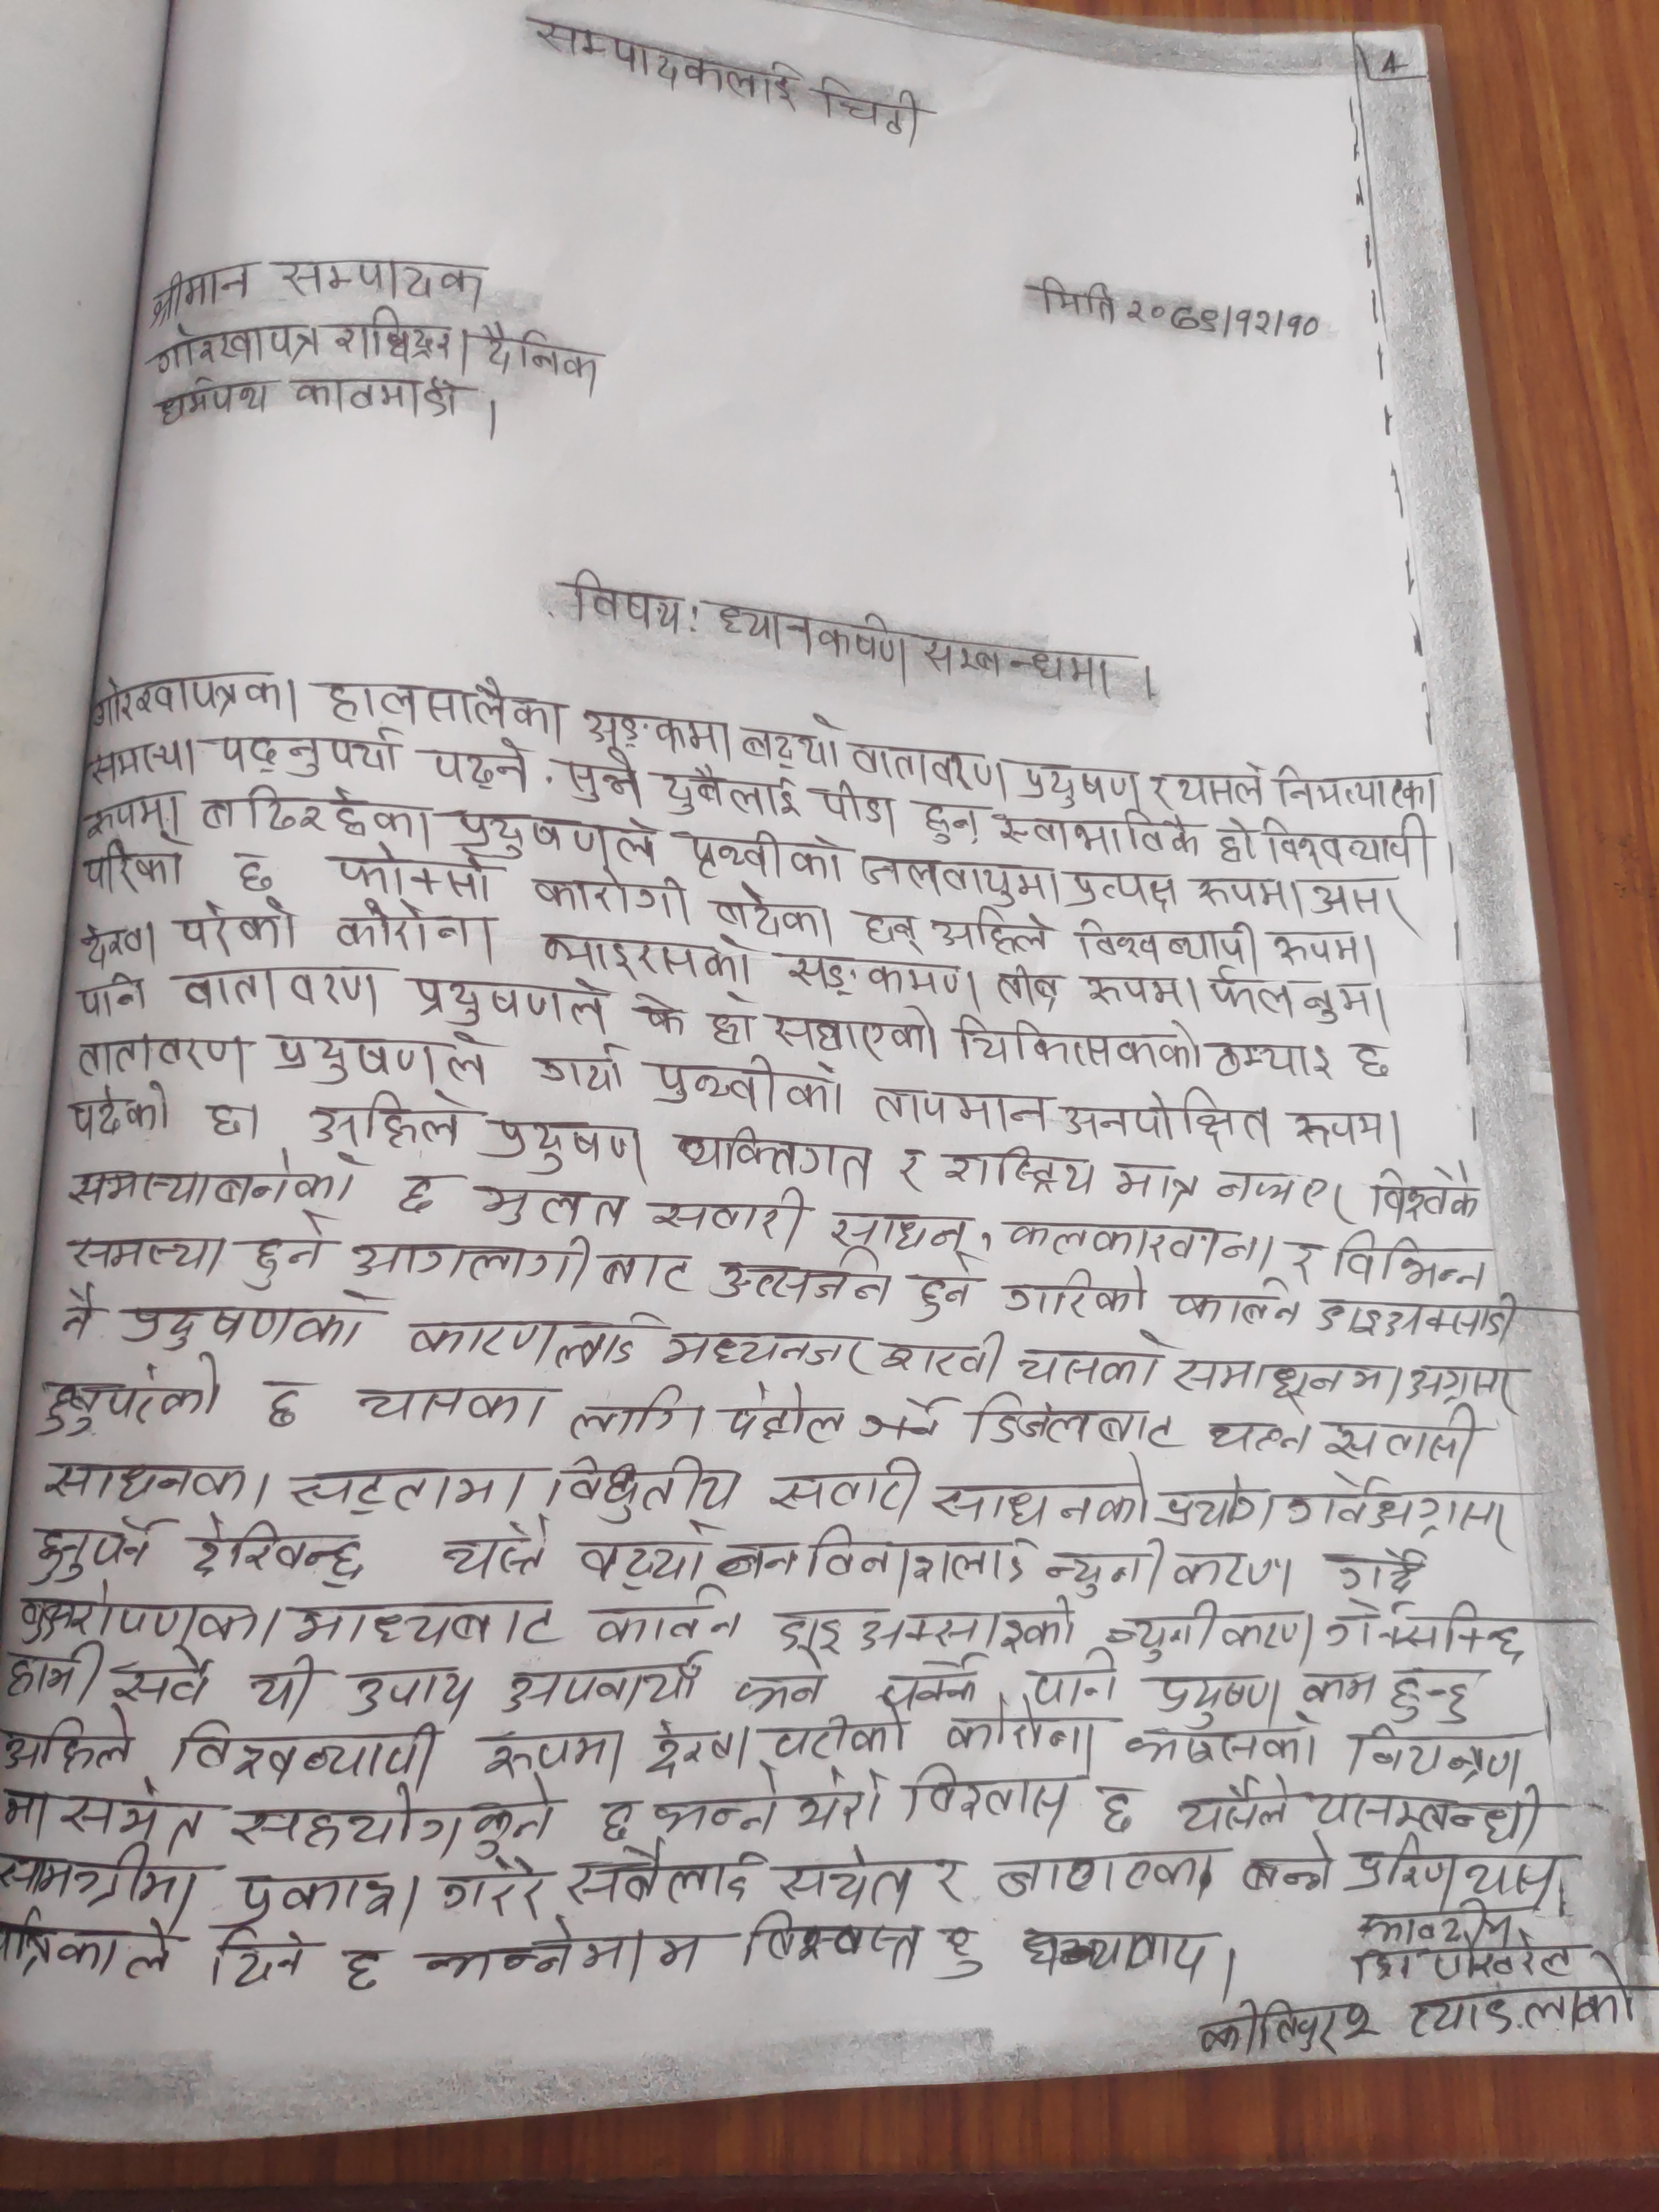text: (521, 12, 802, 111), (350, 1231, 697, 1296), (54, 1148, 366, 1211), (709, 594, 913, 686), (772, 1599, 1084, 1658), (805, 1521, 1039, 1599), (171, 1717, 444, 1782), (413, 1928, 711, 1986), (932, 1453, 1154, 1529), (232, 1789, 465, 1858), (948, 1012, 1206, 1075), (321, 671, 568, 735), (1281, 1470, 1514, 1538), (917, 624, 1119, 702), (1002, 1211, 1277, 1268), (16, 1590, 282, 1649), (38, 1355, 225, 1439), (406, 1310, 655, 1371), (1403, 1979, 1643, 2041), (432, 796, 659, 862), (117, 1296, 375, 1353), (289, 1599, 563, 1653), (992, 1841, 1216, 1905), (551, 1451, 748, 1524), (645, 1050, 849, 1120), (263, 1026, 490, 1087), (282, 1461, 528, 1517), (1305, 1787, 1542, 1844), (669, 1123, 880, 1188), (186, 1514, 366, 1588), (300, 1083, 471, 1162), (91, 660, 298, 725), (1061, 1089, 1274, 1151), (500, 1653, 706, 1717), (530, 925, 756, 982), (965, 1390, 1178, 1451), (1324, 1599, 1542, 1658), (193, 787, 432, 841), (1107, 1601, 1323, 1660), (770, 942, 979, 1003), (1316, 1289, 1525, 1350), (176, 960, 389, 1019), (0, 1846, 195, 1911), (735, 1911, 925, 1977), (1345, 1844, 1563, 1902), (2, 1907, 173, 1980), (1166, 1353, 1403, 1406), (770, 1000, 939, 1073), (404, 972, 606, 1033), (861, 846, 1065, 906), (659, 1324, 875, 1379), (268, 256, 490, 310), (990, 801, 1204, 857), (897, 1768, 1077, 1834), (565, 1848, 763, 1907), (1014, 1923, 1215, 1980), (490, 1109, 648, 1181), (1183, 873, 1406, 923), (1323, 1402, 1492, 1468), (666, 824, 854, 883), (232, 1871, 420, 1930), (214, 723, 408, 780), (1070, 909, 1262, 967), (525, 859, 699, 921), (59, 1778, 216, 1848), (708, 1249, 897, 1306), (1347, 1730, 1530, 1789), (1344, 1937, 1582, 1982), (42, 1454, 254, 1505), (1331, 1223, 1493, 1289), (1122, 293, 1324, 345), (1194, 1998, 1371, 2057), (329, 841, 500, 902), (864, 1080, 1051, 1136), (849, 732, 1009, 796), (1204, 967, 1389, 1022), (1260, 817, 1436, 874), (767, 1454, 924, 1519), (26, 1514, 164, 1587), (336, 899, 500, 960), (357, 1383, 547, 1435), (1119, 1728, 1324, 1775), (775, 1848, 917, 1916), (936, 1139, 1096, 1198), (469, 320, 605, 390), (288, 369, 469, 421), (70, 1031, 251, 1083), (1018, 1327, 1169, 1388), (1272, 761, 1438, 817), (558, 570, 687, 641), (655, 759, 796, 824), (579, 1519, 706, 1590), (655, 1775, 782, 1846), (1140, 1669, 1288, 1730), (939, 1709, 1101, 1763), (765, 1702, 906, 1763), (655, 1188, 809, 1244), (469, 1177, 631, 1230), (5, 1710, 132, 1775), (702, 883, 836, 944), (568, 1383, 708, 1440), (420, 728, 532, 799), (1009, 752, 1143, 812), (1157, 1472, 1279, 1536), (1173, 1271, 1309, 1329), (134, 324, 321, 366), (812, 77, 925, 145), (580, 704, 737, 752), (1000, 1264, 1147, 1317), (723, 1385, 849, 1446), (61, 1233, 223, 1280), (1358, 1162, 1481, 1223), (479, 1728, 627, 1778), (587, 1601, 746, 1648), (430, 1857, 551, 1918), (171, 897, 301, 953), (328, 307, 457, 362), (878, 1331, 1011, 1385), (436, 1517, 549, 1580), (1161, 1543, 1304, 1592), (242, 1214, 331, 1292), (347, 1665, 476, 1719), (209, 1925, 312, 1991), (1384, 1663, 1481, 1733), (467, 1782, 558, 1857), (106, 1646, 211, 1710), (831, 1205, 969, 1254), (1178, 1775, 1295, 1832), (152, 373, 274, 427), (786, 1768, 885, 1834), (63, 1083, 176, 1141), (1286, 1104, 1403, 1160), (1321, 1540, 1431, 1599), (643, 1721, 753, 1780), (737, 711, 843, 772), (141, 263, 253, 320), (932, 902, 1054, 954), (730, 1653, 835, 1714), (1356, 1907, 1521, 1946), (552, 745, 653, 808), (1065, 862, 1188, 913), (1239, 1836, 1333, 1902), (85, 735, 204, 787), (77, 840, 188, 894), (532, 1031, 627, 1094), (1263, 925, 1385, 974), (1040, 1543, 1147, 1599), (1073, 967, 1202, 1012), (877, 1656, 985, 1710), (82, 786, 185, 841), (1019, 1658, 1119, 1714), (814, 773, 901, 836), (1206, 1409, 1316, 1458), (1403, 1366, 1527, 1407), (1206, 1040, 1333, 1080), (1025, 272, 1121, 324), (10, 1648, 96, 1705), (1110, 1160, 1202, 1211), (910, 1259, 976, 1327), (249, 1655, 319, 1717), (1182, 761, 1269, 808), (1295, 1663, 1382, 1710), (697, 991, 763, 1050), (910, 794, 979, 850), (73, 970, 152, 1019), (720, 1534, 798, 1583), (78, 921, 155, 970), (995, 961, 1068, 1010), (1215, 1163, 1297, 1205), (861, 897, 918, 956), (58, 1282, 108, 1348), (626, 989, 687, 1040), (258, 1378, 307, 1440), (7, 1782, 52, 1848), (887, 1141, 932, 1204), (943, 1923, 985, 1987), (223, 848, 282, 894), (199, 1089, 251, 1139), (1215, 813, 1258, 867), (1100, 1782, 1140, 1839), (343, 1947, 390, 1993), (1347, 1040, 1396, 1083), (1283, 1238, 1330, 1282), (927, 1855, 971, 1900), (399, 1172, 441, 1219), (603, 1787, 634, 1844), (1140, 773, 1178, 813)
